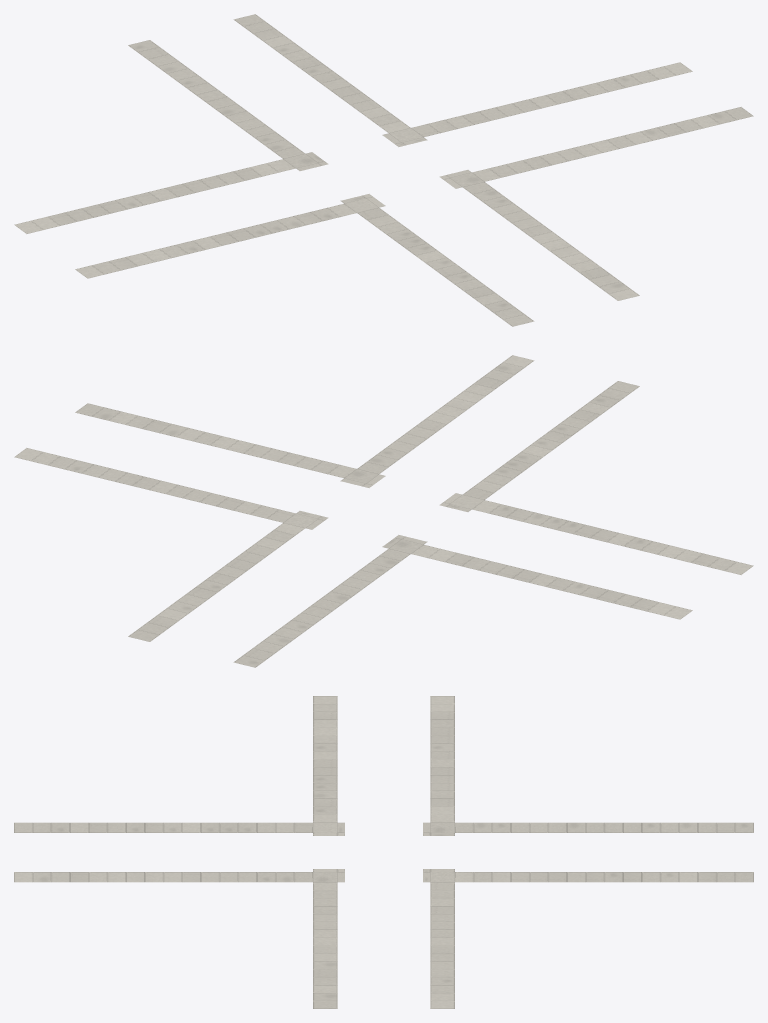
Rendered from paving_p1_FourWay.gltf.
The picture shows the model from 3 angles, top to bottom: view 1: azimuth 30°, elevation 25°; view 2: azimuth 150°, elevation 25°; view 3: azimuth 270°, elevation 25°; orthographic projection. The views are drawn at different scales.
Parts seen in each view (by area): view 1: paving_p1_FourWay; view 2: paving_p1_FourWay; view 3: paving_p1_FourWay.
Boxes of the visible parts, x1=… form: paving_p1_FourWay: x1=14, y1=14, x2=753, y2=326; paving_p1_FourWay: x1=14, y1=355, x2=753, y2=667; paving_p1_FourWay: x1=14, y1=696, x2=753, y2=1008.
Size of the model in its own units: 60 by 0 by 60.
Materials: 1 (1 with a texture image).
